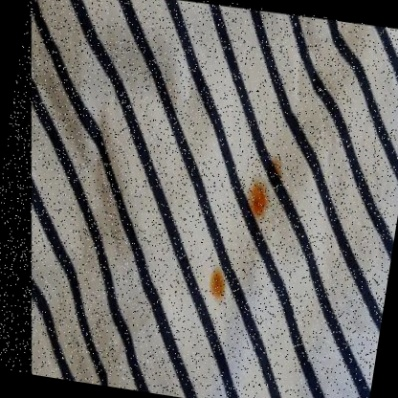kimchi: (243, 177, 276, 219), (204, 267, 228, 304), (270, 155, 290, 172)
